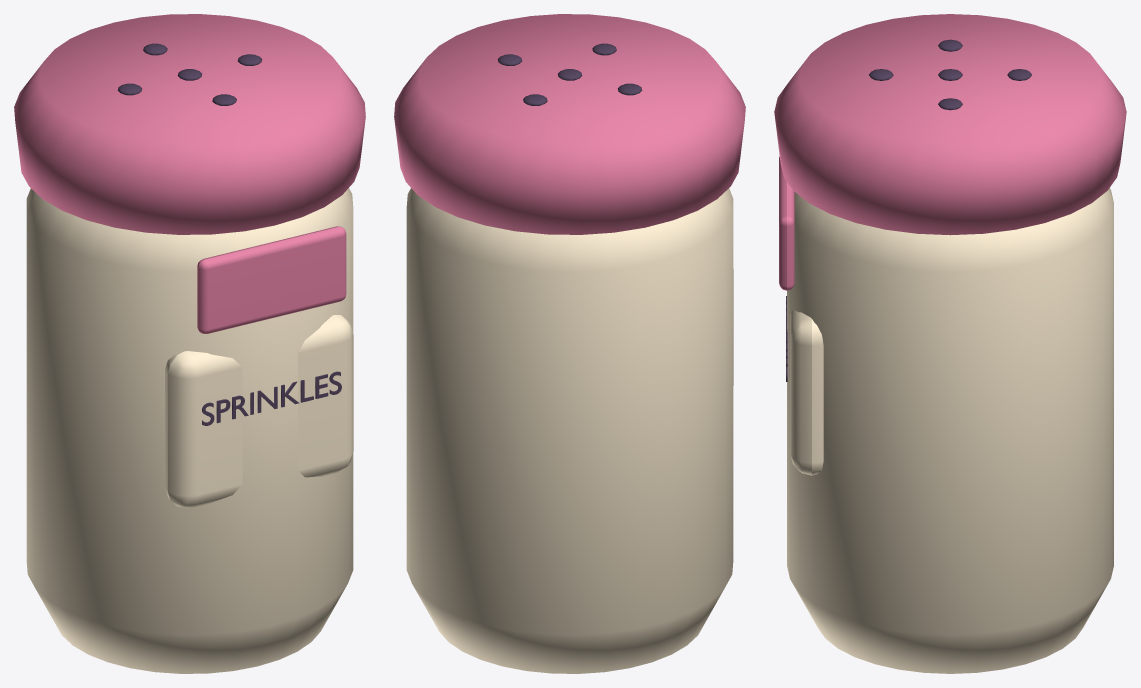
The model's file is Sprinkles_dispenser.fbx.
The picture shows the model from 3 angles, left to right: view 1: azimuth 30°, elevation 25°; view 2: azimuth 150°, elevation 25°; view 3: azimuth 270°, elevation 25°; orthographic projection.
Visible parts, largest first — view 1: Toon_Sprinkles_dispenser Shaker jar.001, Toon_Sprinkles_dispenser Colored lid.001, Toon_Sprinkles_dispenser Bottle label.001, Toon_Sprinkles_dispenser Contents window.001, Bottle name.007; view 2: Toon_Sprinkles_dispenser Shaker jar.001, Toon_Sprinkles_dispenser Colored lid.001; view 3: Toon_Sprinkles_dispenser Shaker jar.001, Toon_Sprinkles_dispenser Colored lid.001, Toon_Sprinkles_dispenser Bottle label.001, Toon_Sprinkles_dispenser Contents window.001.
Boxes of the visible parts, bbox=[...] form: Toon_Sprinkles_dispenser Shaker jar.001: bbox=[26, 188, 353, 673]; Toon_Sprinkles_dispenser Colored lid.001: bbox=[14, 14, 365, 234]; Toon_Sprinkles_dispenser Bottle label.001: bbox=[165, 314, 353, 508]; Toon_Sprinkles_dispenser Contents window.001: bbox=[197, 226, 346, 333]; Bottle name.007: bbox=[202, 371, 341, 425]; Toon_Sprinkles_dispenser Shaker jar.001: bbox=[406, 188, 733, 673]; Toon_Sprinkles_dispenser Colored lid.001: bbox=[394, 14, 745, 234]; Toon_Sprinkles_dispenser Shaker jar.001: bbox=[787, 188, 1113, 673]; Toon_Sprinkles_dispenser Colored lid.001: bbox=[774, 14, 1126, 235]; Toon_Sprinkles_dispenser Bottle label.001: bbox=[790, 309, 823, 475]; Toon_Sprinkles_dispenser Contents window.001: bbox=[779, 156, 794, 290].
Bounding box in the file's own units: 11.2 × 19.1 × 11.2.
